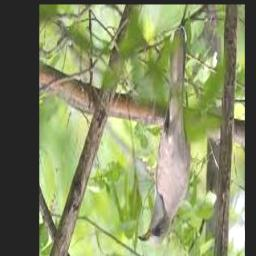Cuckoo: (138, 27, 191, 242)
